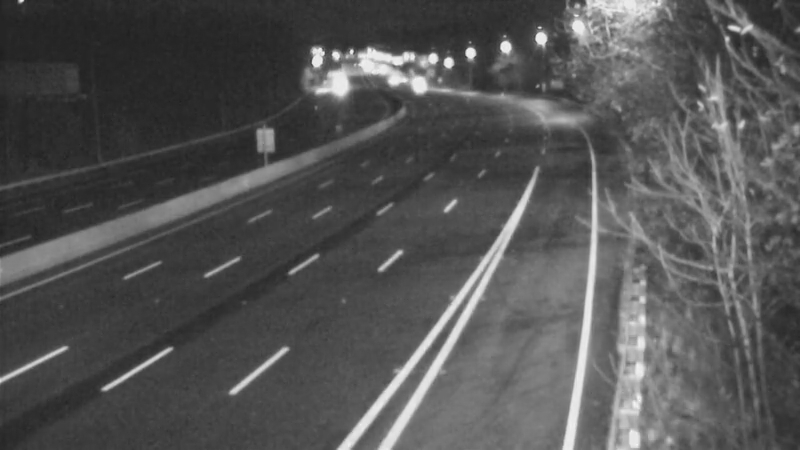vehicle: (395, 62, 445, 112)
